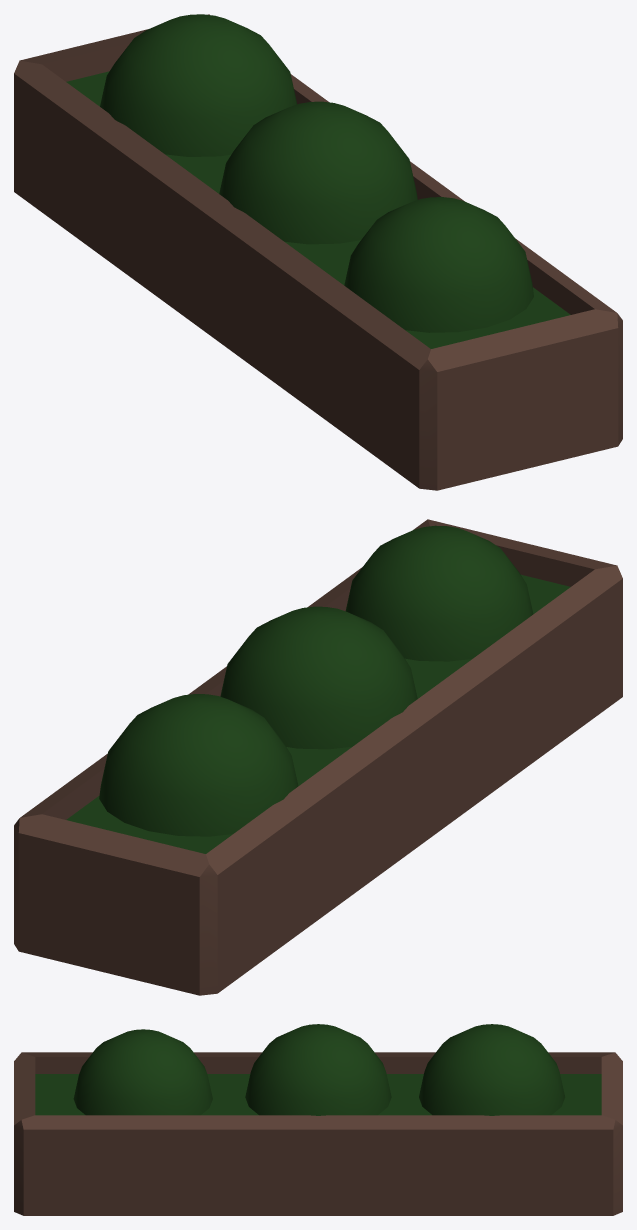
The model's file is Maceta.fbx.
The picture shows the model from 3 angles, top to bottom: view 1: azimuth 30°, elevation 25°; view 2: azimuth 150°, elevation 25°; view 3: azimuth 270°, elevation 25°; orthographic projection. The views are drawn at different scales.
Visible parts, largest first — view 1: Cube, Sphere, Sphere.002, Sphere.001; view 2: Cube, Sphere.002, Sphere, Sphere.001; view 3: Cube, Sphere.002, Sphere, Sphere.001.
Part boxes in pixels (x1,y1,x2,y2): Cube: [14, 14, 622, 490]; Sphere: [219, 101, 417, 244]; Sphere.002: [100, 14, 296, 156]; Sphere.001: [344, 197, 533, 332]; Cube: [14, 519, 622, 995]; Sphere.002: [99, 694, 298, 836]; Sphere: [220, 606, 417, 749]; Sphere.001: [345, 525, 533, 661]; Cube: [14, 1052, 622, 1215]; Sphere.002: [419, 1024, 565, 1115]; Sphere: [245, 1024, 391, 1115]; Sphere.001: [73, 1029, 212, 1115].
Size of the model in its own units: 85.93 by 82.5 by 306.
